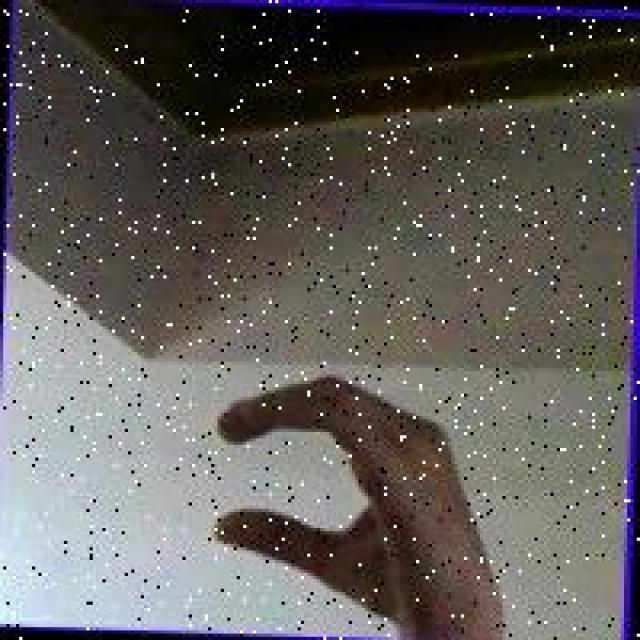C: (204, 363, 506, 632)
